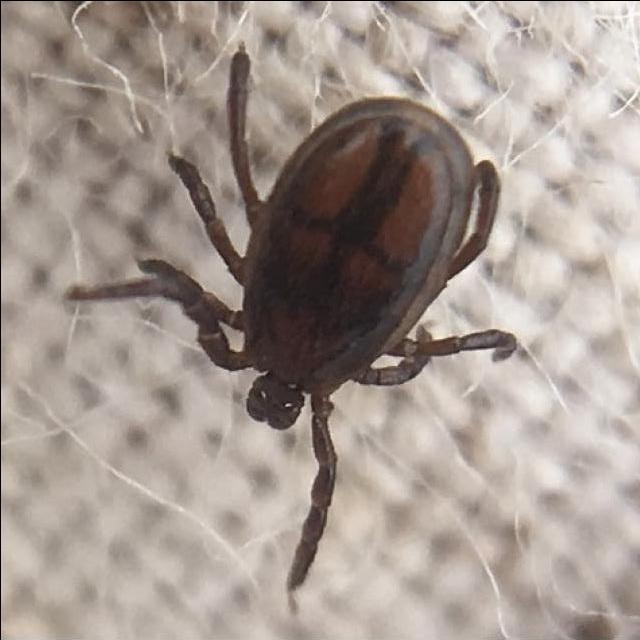Ixodes Ricinus-M: (62, 47, 515, 591)
